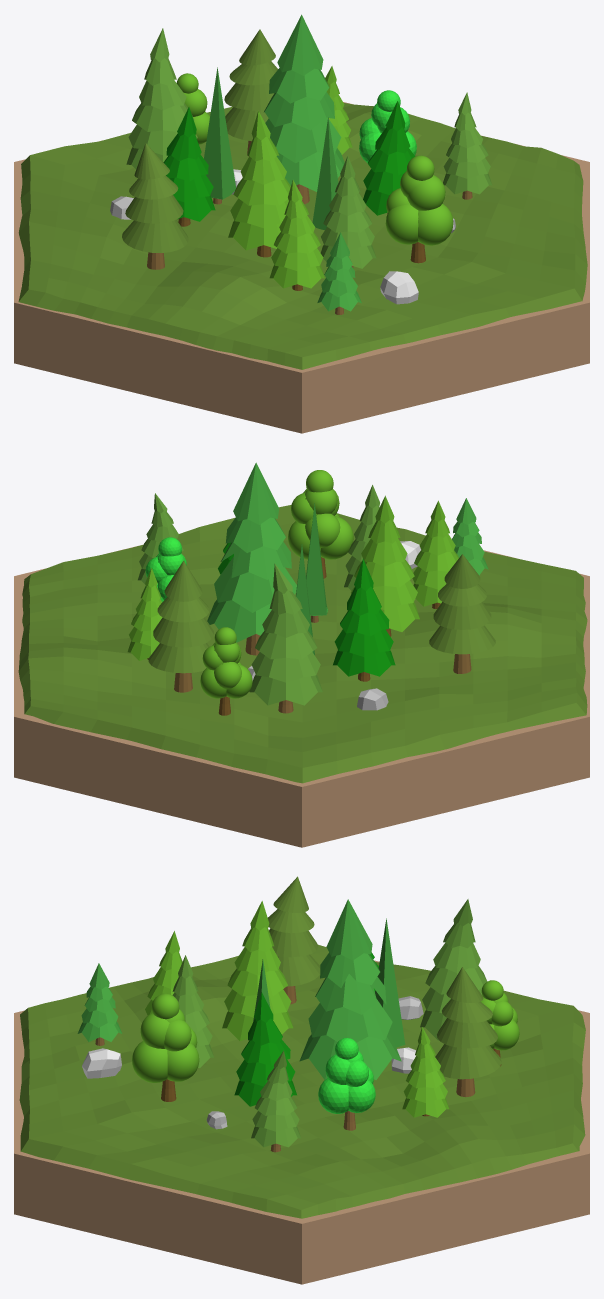
File: forest.fbx
The picture shows the model from 3 angles, top to bottom: view 1: azimuth 30°, elevation 25°; view 2: azimuth 150°, elevation 25°; view 3: azimuth 270°, elevation 25°; orthographic projection.
Visible parts, largest first — view 1: Plane, base.001, Cone.002, Tree.009, Cylinder.008, Cylinder.003, Tree.003, Tree.014, Cylinder.002, Tree.011, Tree.002, Tree.008 (+8 smaller); view 2: Plane, base.001, Cone.002, Tree.003, Cylinder.002, Tree.011, Cylinder.003, Tree.009, Cylinder.008, Cylinder.010, Tree.014, Tree.015 (+7 smaller); view 3: Plane, base.001, Cone.002, Cylinder.002, Tree.009, Cylinder.008, Tree.003, Cylinder.003, Tree.008, Cylinder.001, Tree.001, Tree.015 (+6 smaller).
Part boxes in pixels (<box>): Plane: <box>18,103,587,369</box>; base.001: <box>14,102,589,433</box>; Cone.002: <box>264,14,344,191</box>; Tree.009: <box>228,111,290,257</box>; Cylinder.008: <box>385,155,453,263</box>; Cylinder.003: <box>122,143,188,252</box>; Tree.003: <box>126,28,197,169</box>; Tree.014: <box>269,180,324,290</box>; Cylinder.002: <box>224,29,278,141</box>; Tree.011: <box>163,107,215,226</box>; Tree.002: <box>320,155,376,268</box>; Tree.008: <box>363,101,415,215</box>; Plane: <box>18,505,587,783</box>; base.001: <box>14,545,589,847</box>; Cone.002: <box>207,462,296,642</box>; Tree.003: <box>249,563,322,705</box>; Cylinder.002: <box>148,561,213,673</box>; Tree.011: <box>333,559,395,681</box>; Cylinder.003: <box>429,554,495,654</box>; Tree.009: <box>351,495,419,636</box>; Cylinder.008: <box>288,470,353,578</box>; Cylinder.010: <box>200,627,252,715</box>; Tree.014: <box>412,500,458,608</box>; Tree.015: <box>127,568,162,660</box>; Plane: <box>19,944,585,1218</box>; base.001: <box>14,960,589,1284</box>; Cone.002: <box>299,899,401,1079</box>; Cylinder.002: <box>435,967,501,1079</box>; Tree.009: <box>222,901,293,1040</box>; Cylinder.008: <box>132,993,199,1101</box>; Tree.003: <box>420,899,487,1040</box>; Cylinder.003: <box>268,876,320,986</box>; Tree.008: <box>234,992,296,1106</box>; Cylinder.001: <box>318,1037,375,1113</box>; Tree.001: <box>251,1050,300,1147</box>; Tree.015: <box>402,1027,449,1117</box>.
Bounding box in the file's own units: 1364 × 580 × 1181.
